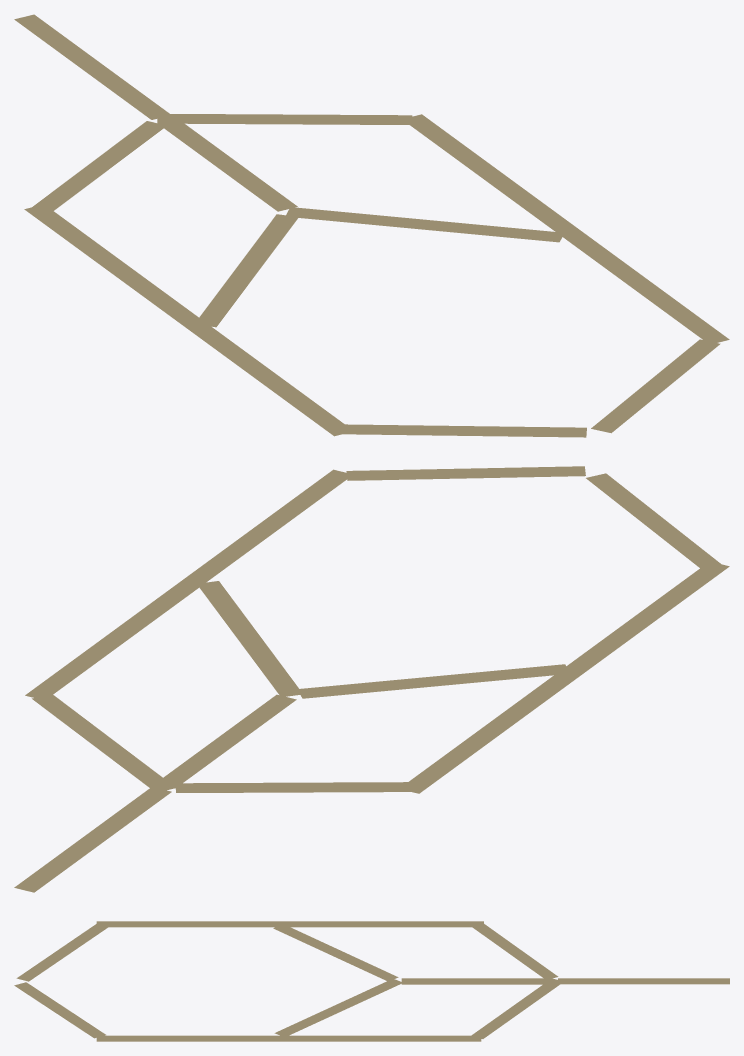
The model's file is SM_TA_Paths.fbx.
The picture shows the model from 3 angles, top to bottom: view 1: azimuth 30°, elevation 25°; view 2: azimuth 150°, elevation 25°; view 3: azimuth 270°, elevation 25°; orthographic projection. The views are drawn at different scales.
Visible parts, largest first — view 1: pPlane7, pPlane8, pPlane5, pPlane16, pPlane6, pPlane10, pPlane15, pPlane13, pPlane12, pPlane9, pPlane11, pPlane14; view 2: pPlane8, pPlane7, pPlane6, pPlane5, pPlane16, pPlane15, pPlane10, pPlane12, pPlane11, pPlane14, pPlane13, pPlane9; view 3: pPlane8, pPlane7, pPlane6, pPlane5, pPlane10, pPlane16, pPlane15, pPlane9, pPlane12, pPlane13, pPlane14, pPlane11.
Part boxes in pixels (x1,y1,x2,y2): pPlane7: (24, 204, 215, 334); pPlane8: (402, 114, 579, 234); pPlane5: (560, 230, 729, 344); pPlane16: (286, 207, 562, 242); pPlane6: (186, 324, 353, 436); pPlane10: (14, 14, 171, 119); pPlane15: (199, 214, 298, 327); pPlane13: (337, 424, 586, 437); pPlane12: (157, 113, 412, 124); pPlane9: (157, 118, 297, 211); pPlane11: (30, 121, 166, 213); pPlane14: (591, 339, 720, 433); pPlane8: (25, 570, 216, 700); pPlane7: (403, 671, 578, 793); pPlane6: (559, 561, 729, 676); pPlane5: (183, 469, 352, 584); pPlane16: (197, 581, 300, 697); pPlane15: (297, 664, 566, 698); pPlane10: (14, 787, 171, 892); pPlane12: (32, 695, 175, 792); pPlane11: (175, 782, 416, 792); pPlane14: (346, 466, 585, 480); pPlane13: (586, 473, 723, 569); pPlane9: (158, 694, 296, 787); pPlane8: (267, 1035, 481, 1041); pPlane7: (269, 921, 483, 927); pPlane6: (96, 921, 283, 927); pPlane5: (96, 1035, 283, 1041); pPlane10: (558, 978, 729, 984); pPlane16: (274, 978, 401, 1035); pPlane15: (273, 927, 398, 980); pPlane9: (401, 978, 551, 984); pPlane12: (471, 978, 563, 1038); pPlane13: (16, 923, 108, 981); pPlane14: (14, 982, 105, 1038); pPlane11: (472, 923, 558, 979).
Bounding box in the file's own units: 7.5 × 0 × 18.82.
